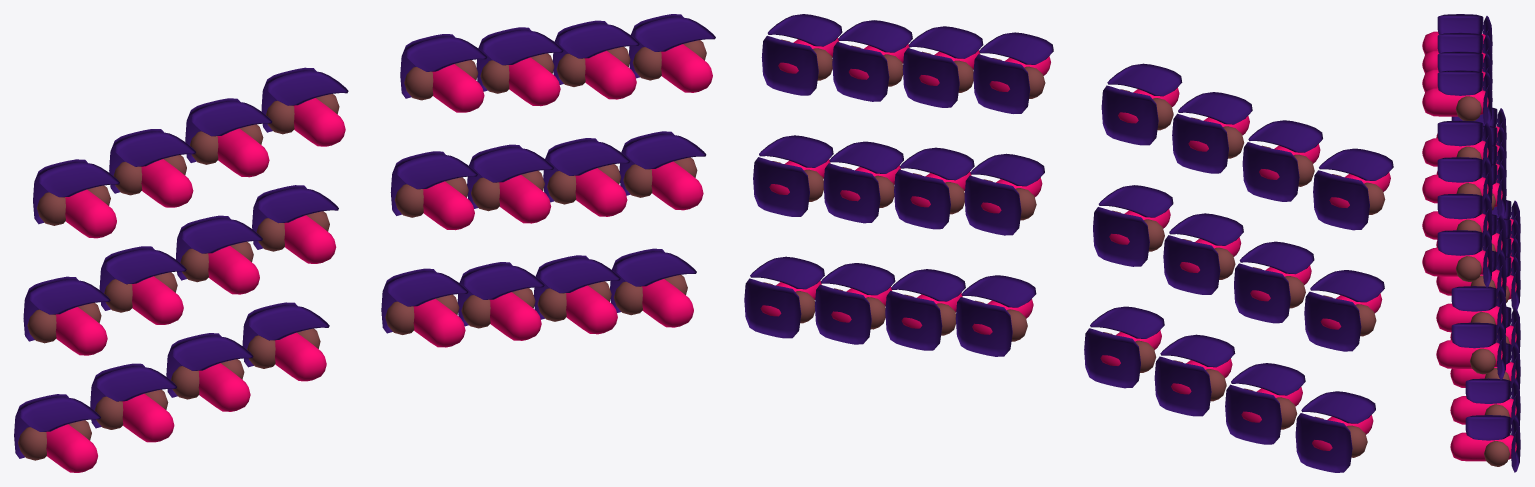
The model's file is Pollublico.fbx.
3 renders of one model, left to right at view 1: azimuth 30°, elevation 25°; view 2: azimuth 150°, elevation 25°; view 3: azimuth 270°, elevation 25°, orthographic. The views are drawn at different scales.
Visible parts, largest first — view 1: Pollublico; view 2: Pollublico; view 3: Pollublico.
Boxes of the visible parts, box(x1,y1,x2,y2) form: Pollublico: box(14, 14, 715, 472); Pollublico: box(744, 14, 1393, 472); Pollublico: box(1422, 14, 1520, 472).
Size of the model in its own units: 3227 by 1596 by 557.
1 material, 1 textured.
